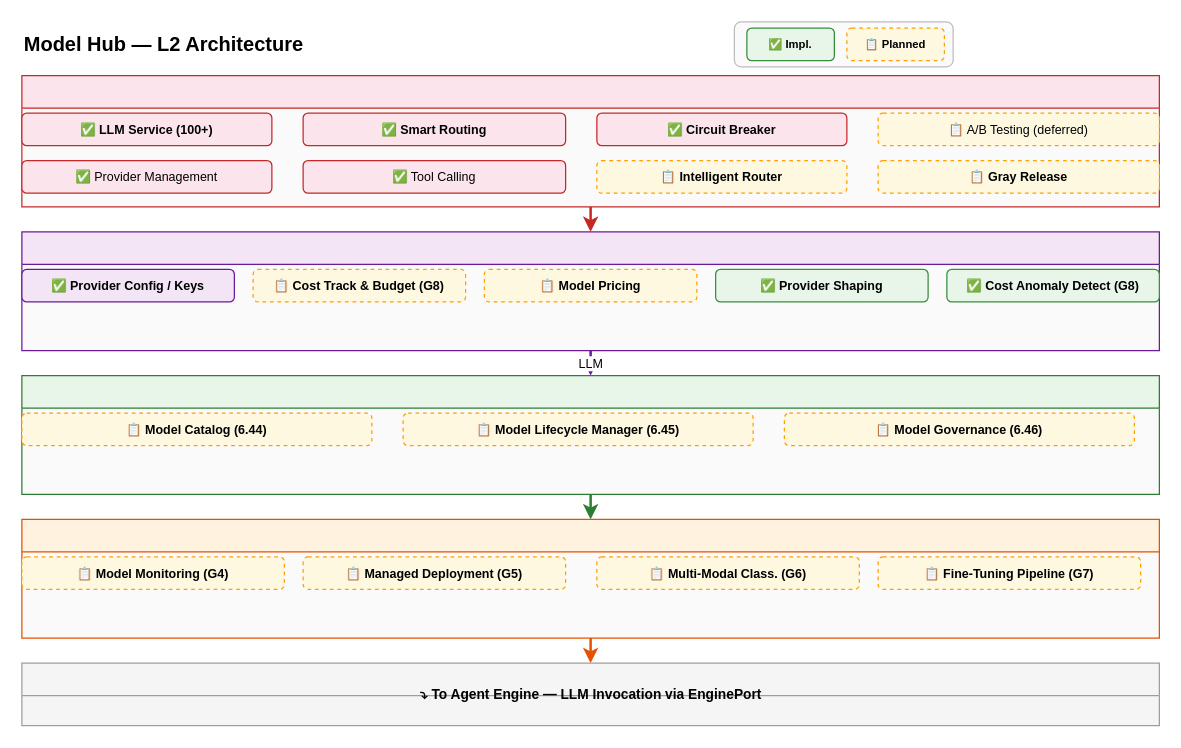
Some shapes in this 1181 by 748 pixel diagram are drawn without their labels. The box of each missing label's shape, as (x1, y1, x2, y2) in pixels:
1. LLM Integration: (21, 74, 1159, 207)
2. Provider & Cost Management: (21, 231, 1159, 351)
3. Model Catalog & Lifecycle: (21, 374, 1159, 494)
4. Model Operations & Monitoring: (21, 518, 1159, 638)
